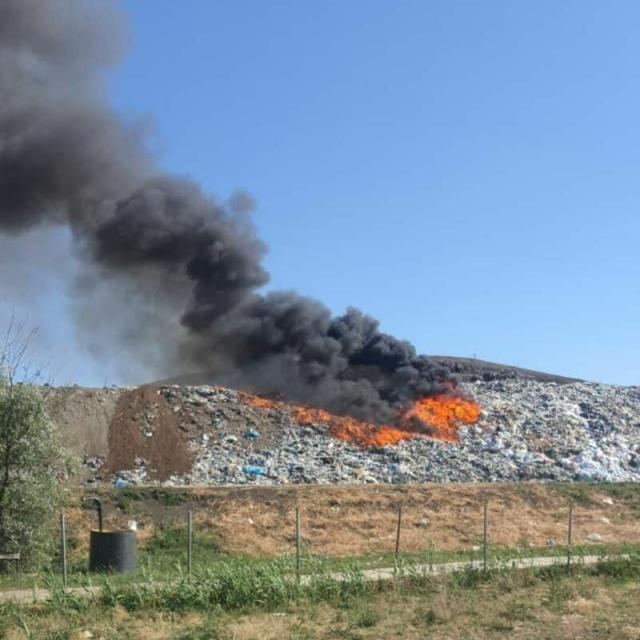Fire: (407, 394, 486, 434)
Smoke: (0, 38, 427, 414)
